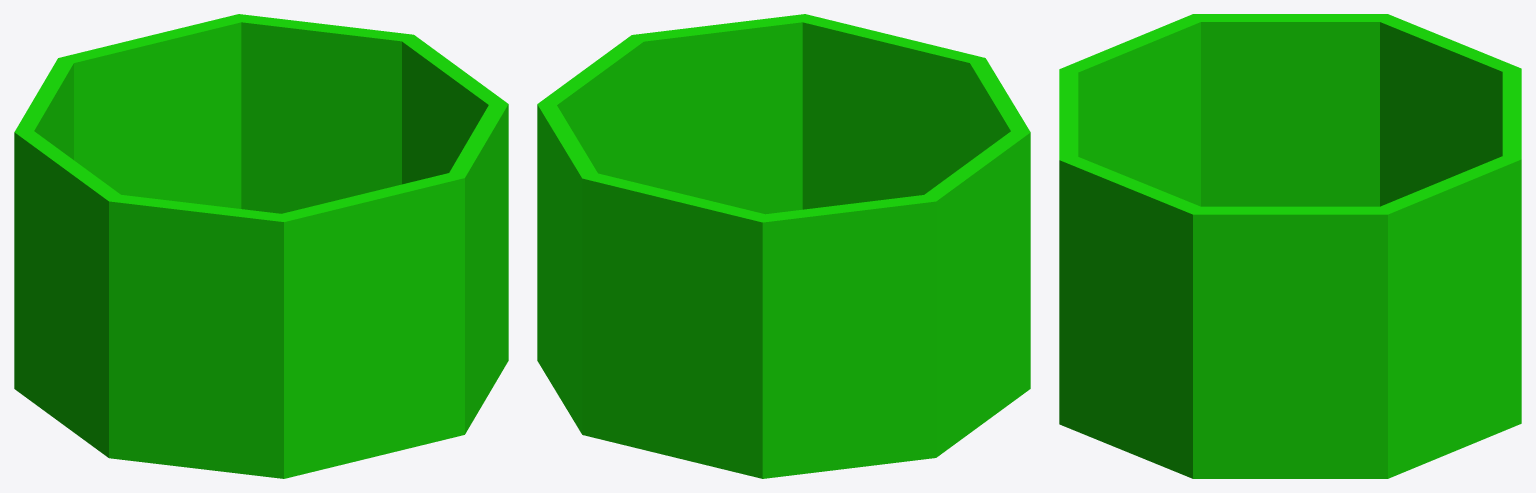
The model's file is sm_wall_360medium_collider_updated.fbx.
The picture shows the model from 3 angles, left to right: view 1: azimuth 30°, elevation 25°; view 2: azimuth 150°, elevation 25°; view 3: azimuth 270°, elevation 25°; orthographic projection. The views are drawn at different scales.
Visible parts, largest first — view 1: Circle.087; view 2: Circle.087; view 3: Circle.087.
Boxes of the visible parts, bbox=[...] form: Circle.087: bbox=[14, 14, 508, 478]; Circle.087: bbox=[537, 14, 1030, 478]; Circle.087: bbox=[1059, 14, 1521, 478].
Size of the model in its own units: 12.46 by 7.65 by 12.13.
